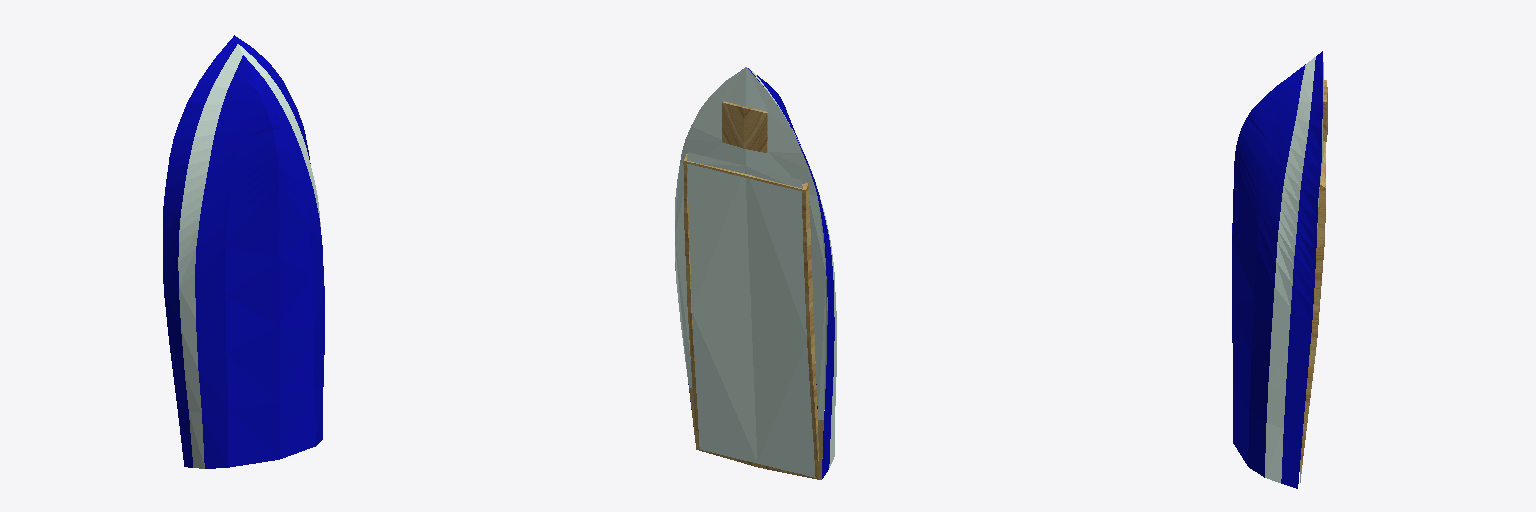
The picture shows the model from 3 angles: view 1: azimuth 30°, elevation 25°; view 2: azimuth 150°, elevation 25°; view 3: azimuth 270°, elevation 25°; orthographic projection.
Visible parts, largest first — view 1: Cabin_Plane.001_Windows.002; view 2: Cabin_Plane.001_Windows.002; view 3: Cabin_Plane.001_Windows.002.
Boxes of the visible parts, x1=… form: Cabin_Plane.001_Windows.002: x1=163, y1=35, x2=324, y2=468; Cabin_Plane.001_Windows.002: x1=675, y1=67, x2=836, y2=479; Cabin_Plane.001_Windows.002: x1=1232, y1=51, x2=1327, y2=488.
Size of the model in its own units: 2.02 by 5.2 by 1.1.
5 materials, 2 textured.